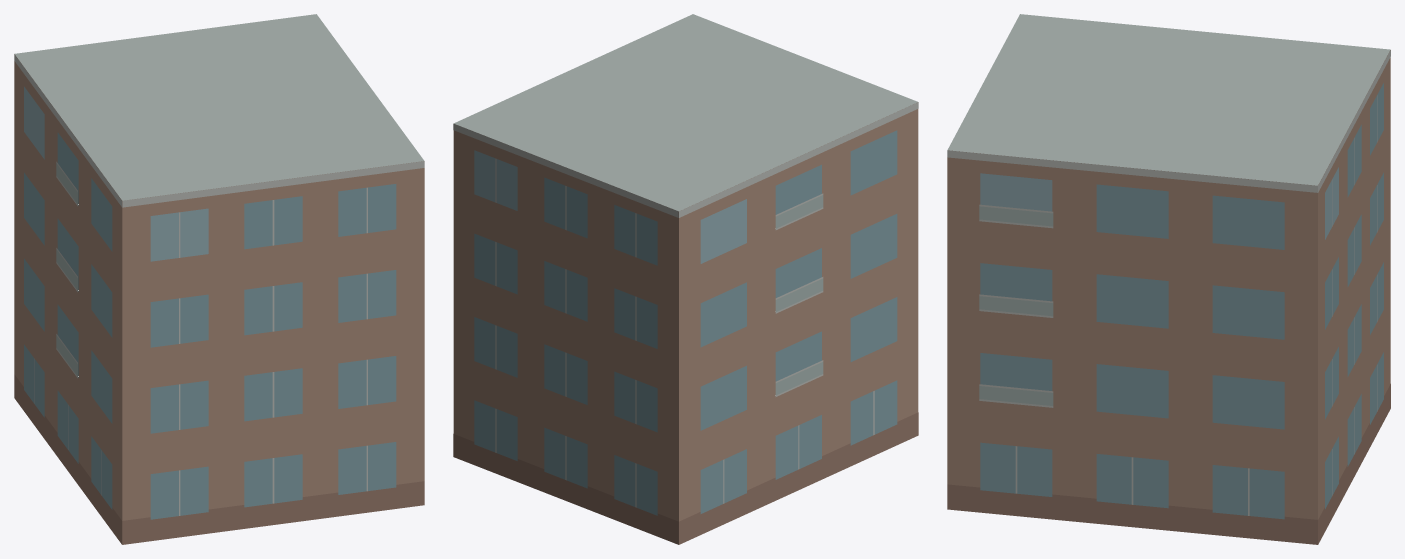
File: residential-a14d4c62-5d9c-44bb-99db-31c5b399d59b.glb
The picture shows the model from 3 angles, left to right: view 1: azimuth 30°, elevation 25°; view 2: azimuth 150°, elevation 25°; view 3: azimuth 270°, elevation 25°; orthographic projection. The views are drawn at different scales.
Visible parts, largest first — view 1: residential-a14d4c62-5d9c-44bb-99db-31c5b399d59b.tmp; view 2: residential-a14d4c62-5d9c-44bb-99db-31c5b399d59b.tmp; view 3: residential-a14d4c62-5d9c-44bb-99db-31c5b399d59b.tmp.
Boxes of the visible parts, x1,y1,x2,y2 form: residential-a14d4c62-5d9c-44bb-99db-31c5b399d59b.tmp: [14, 14, 424, 544]; residential-a14d4c62-5d9c-44bb-99db-31c5b399d59b.tmp: [453, 14, 918, 544]; residential-a14d4c62-5d9c-44bb-99db-31c5b399d59b.tmp: [947, 14, 1390, 544].
Bounding box in the file's own units: 12.52 × 12.2 × 13.66.
